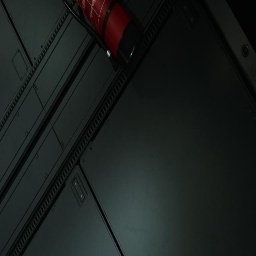FireExtinguisher ]: (62, 0, 144, 76)
